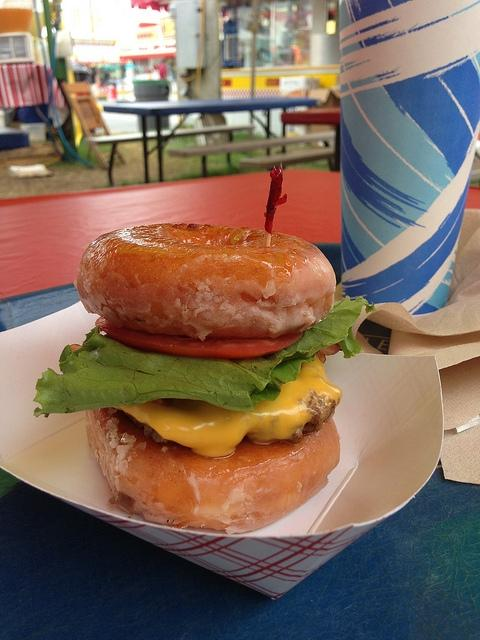lettuce: (33, 294, 377, 421)
tomato: (95, 316, 305, 359)
